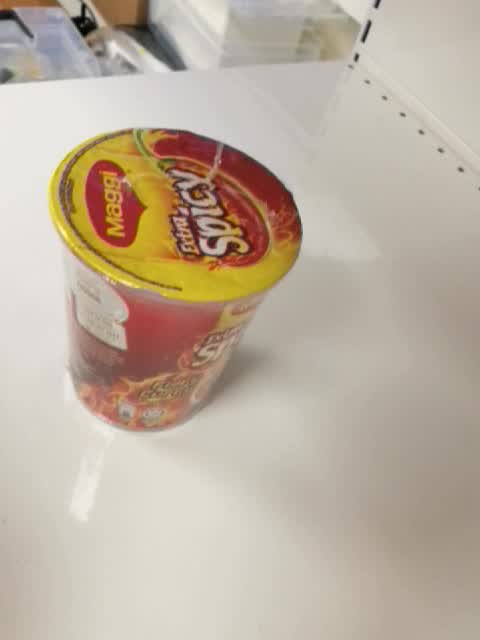maggi: (48, 125, 302, 434)
